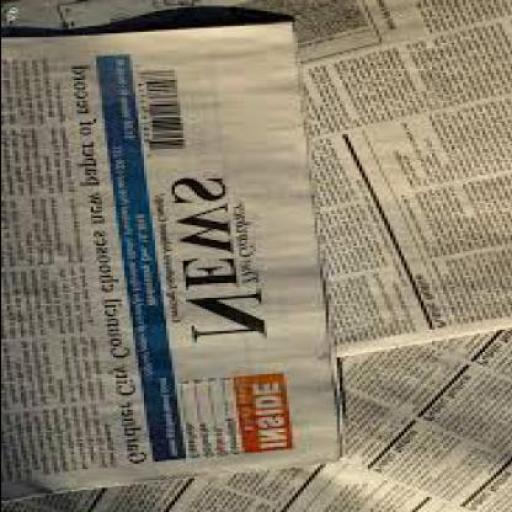paper: (2, 2, 511, 360), (2, 22, 344, 505), (2, 330, 511, 512)
